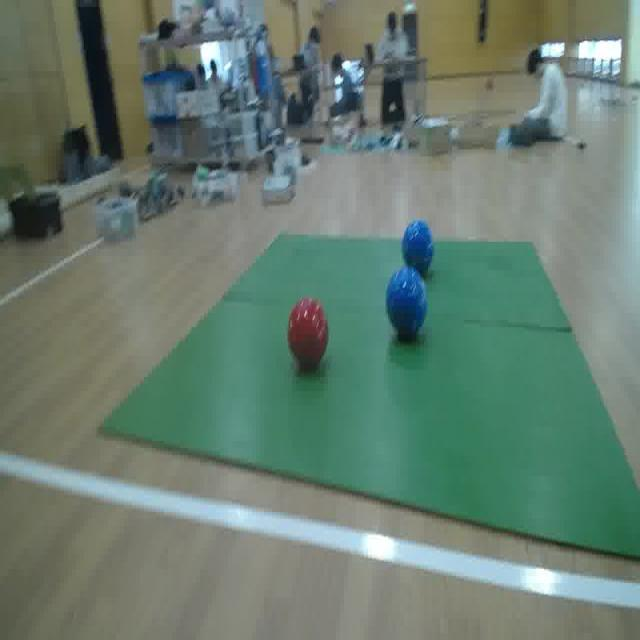blue_ball: (384, 265, 432, 343), (401, 220, 437, 280)
red_ball: (286, 297, 331, 375)
